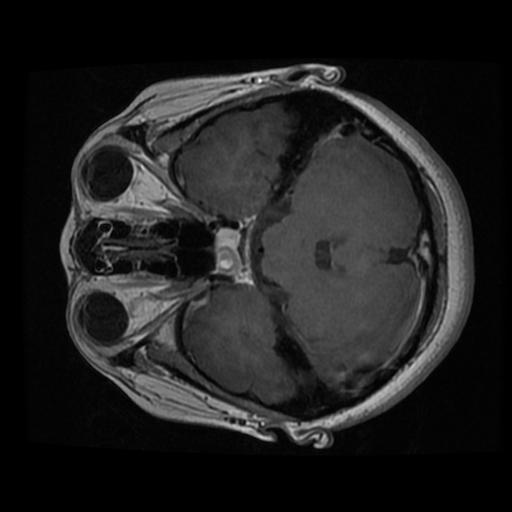pituitary tumour: (215, 228, 251, 284)
